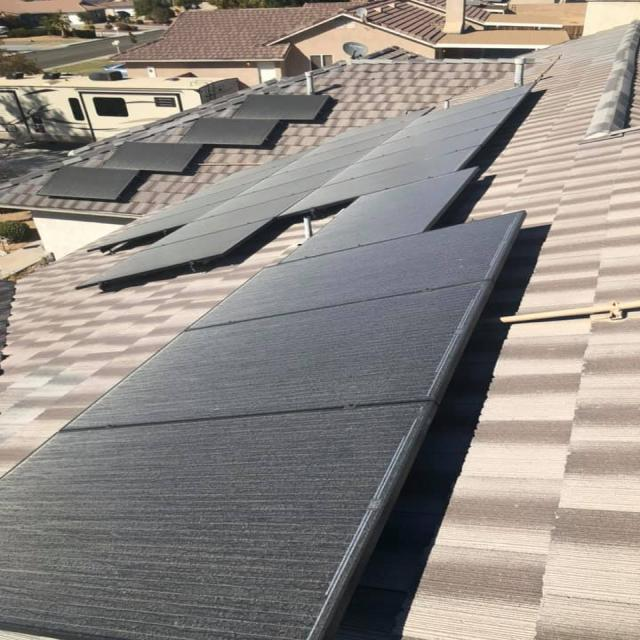dust-solar-panel: (0, 167, 525, 640), (75, 80, 537, 288)
